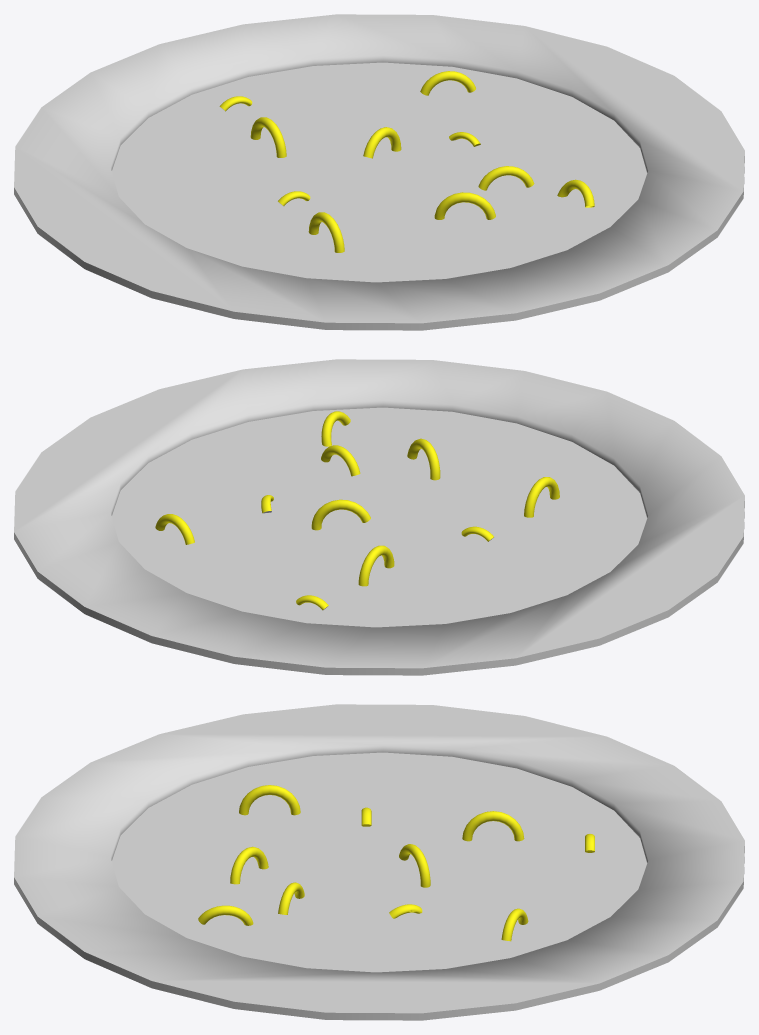
File: plate_macaroni.dae
The picture shows the model from 3 angles, top to bottom: view 1: azimuth 30°, elevation 25°; view 2: azimuth 150°, elevation 25°; view 3: azimuth 270°, elevation 25°; orthographic projection.
Parts seen in each view (by area): view 1: macaroni (×8); view 2: macaroni (×8); view 3: macaroni (×7).
Part boxes in pixels (box(x1,y1,x2,y2)): macaroni (×8): box(14, 14, 744, 330); macaroni (×8): box(14, 359, 744, 675); macaroni (×7): box(14, 704, 744, 1020).
Size of the model in its own units: 1465 by 1465 by 80.93.
